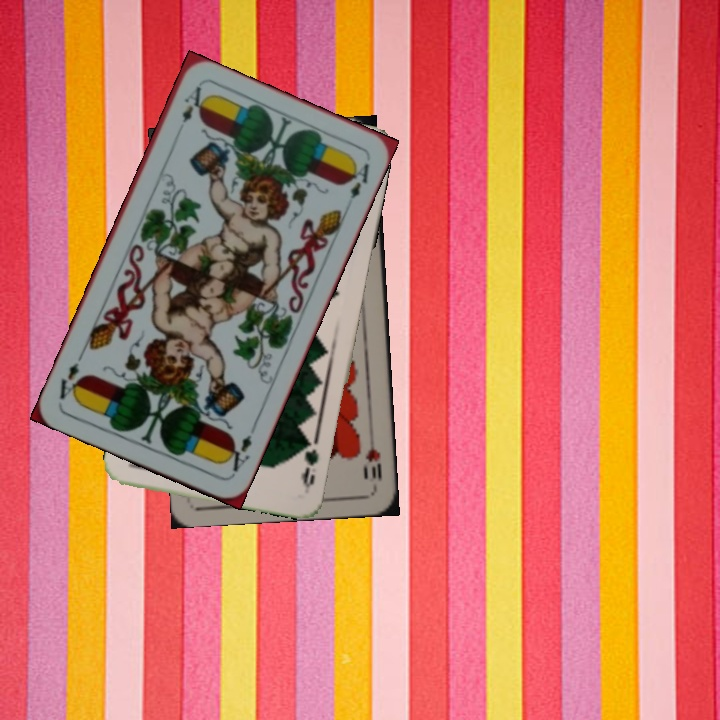EA: (221, 430, 255, 475), (178, 82, 206, 125)
G9: (296, 435, 321, 494)
H10: (361, 431, 385, 484)
